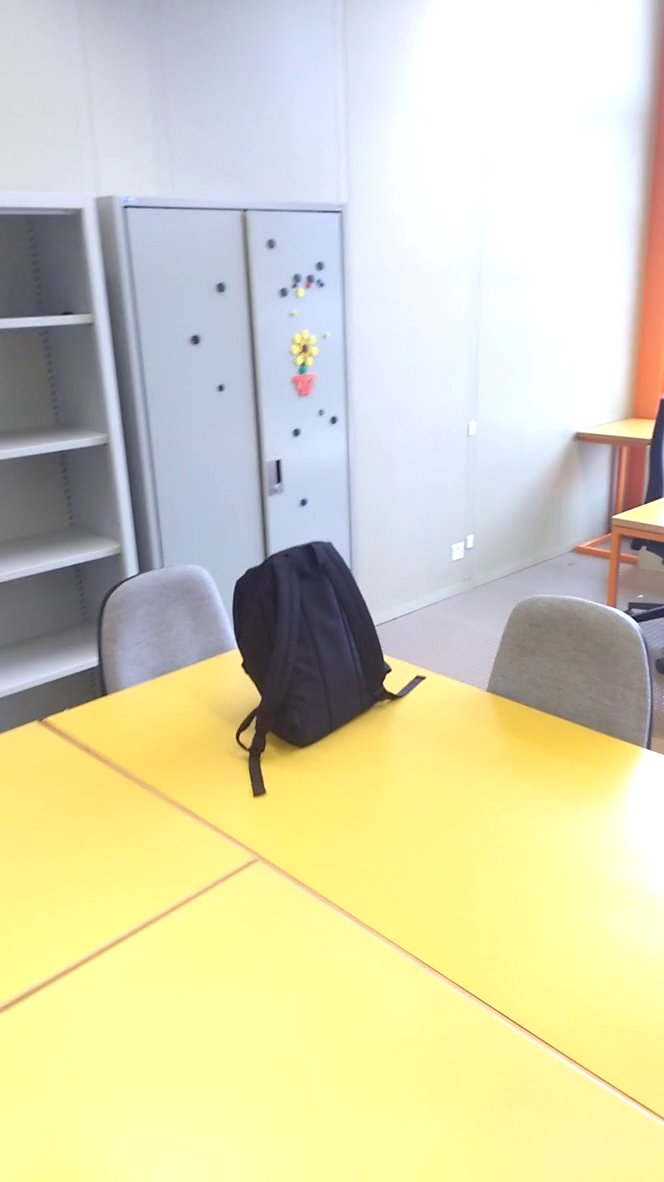bag: (229, 530, 430, 798)
chair: (484, 591, 664, 756), (82, 555, 247, 703)
